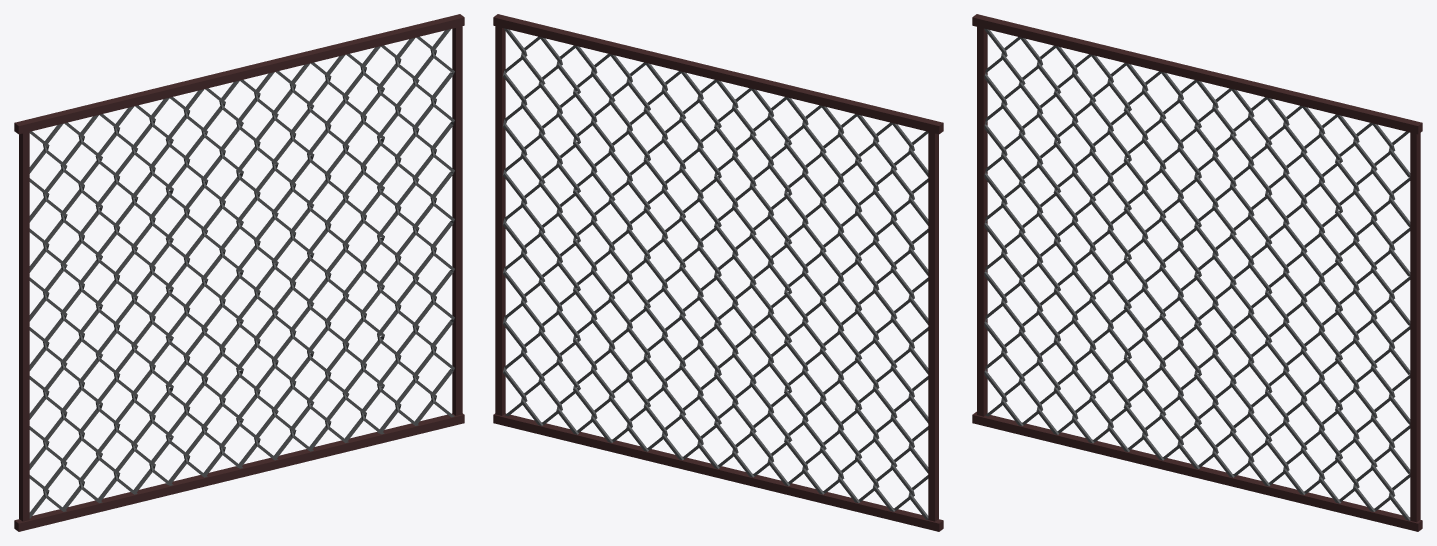
File: metalfence.fbx
The picture shows the model from 3 angles, left to right: view 1: azimuth 30°, elevation 25°; view 2: azimuth 150°, elevation 25°; view 3: azimuth 330°, elevation 25°; orthographic projection.
Parts seen in each view (by area): view 1: Cube; view 2: Cube; view 3: Cube.
Boxes of the visible parts, box(x1,y1,x2,y2) form: Cube: box(14, 14, 464, 531); Cube: box(493, 14, 943, 531); Cube: box(972, 14, 1422, 531).
Bounding box in the file's own units: 11654 × 10135 × 208.
